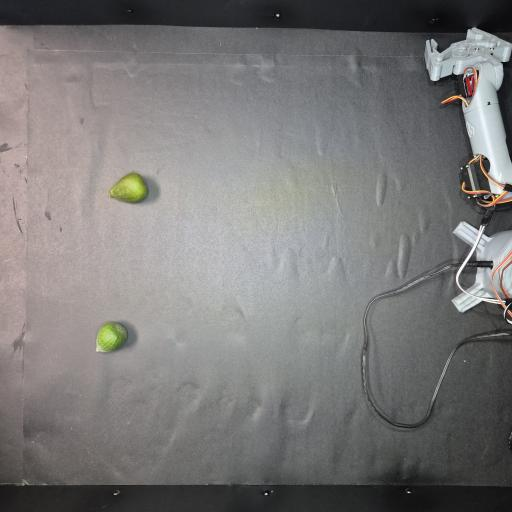higo: (109, 173, 148, 202), (96, 322, 127, 352)
